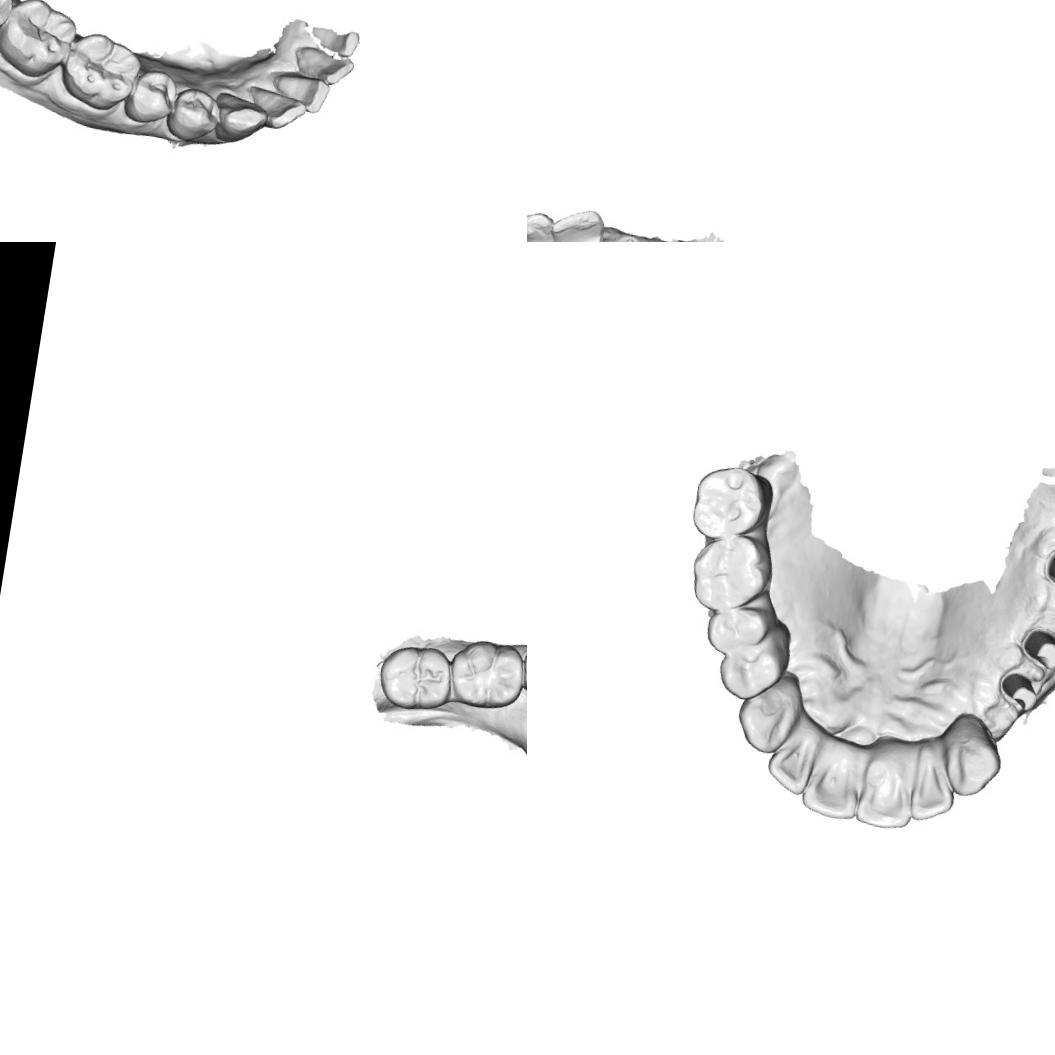abutment: (994, 667, 1044, 716), (1018, 623, 1055, 673), (1039, 544, 1055, 592)
canine: (731, 672, 805, 759), (936, 724, 1008, 803), (209, 87, 275, 150)
implant_minus: (609, 226, 647, 242)
incisor: (851, 756, 920, 834), (798, 744, 866, 823), (762, 727, 820, 798), (904, 759, 960, 826), (242, 80, 308, 134), (268, 68, 334, 118), (288, 42, 358, 89), (546, 203, 609, 242)
molar: (686, 527, 780, 621), (58, 25, 144, 118), (687, 458, 769, 547), (0, 0, 85, 85), (443, 634, 527, 716), (372, 638, 458, 716)
premolar: (713, 628, 793, 708), (701, 599, 774, 661), (164, 82, 226, 148), (121, 64, 182, 130), (515, 638, 527, 700)
